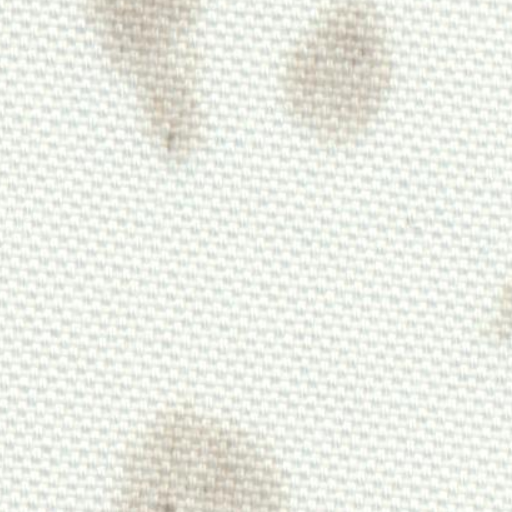WuZi: (68, 6, 237, 158), (268, 3, 420, 158), (104, 382, 290, 508), (482, 274, 508, 366)
